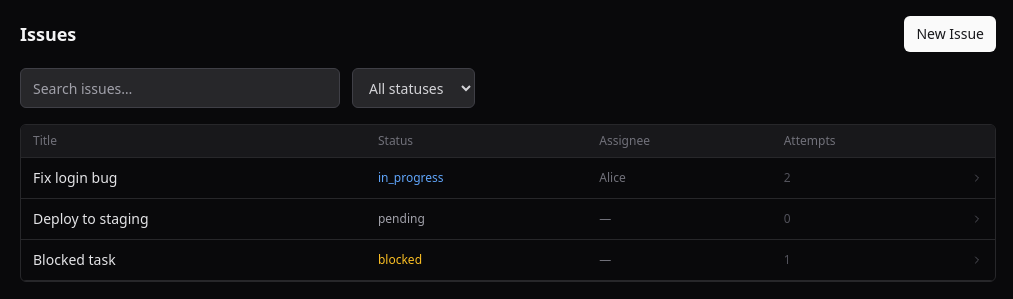
Test: Issues search filtering › search shows empty state when no match
Check: the text "Fix login bug" is shown, box 21,158 -> 366,198
Type "zzznomatch" into the field with placeholder "Search issues…". click: [180, 88]
box: 20,68 -> 340,108
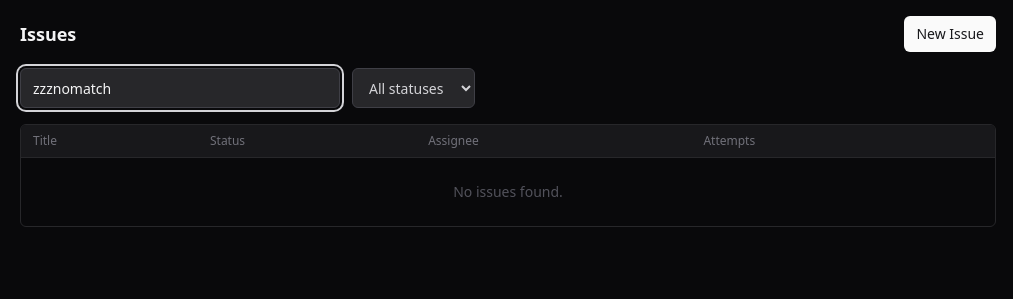
Check: the text "No issues found." is shown, box 21,158 -> 995,226
